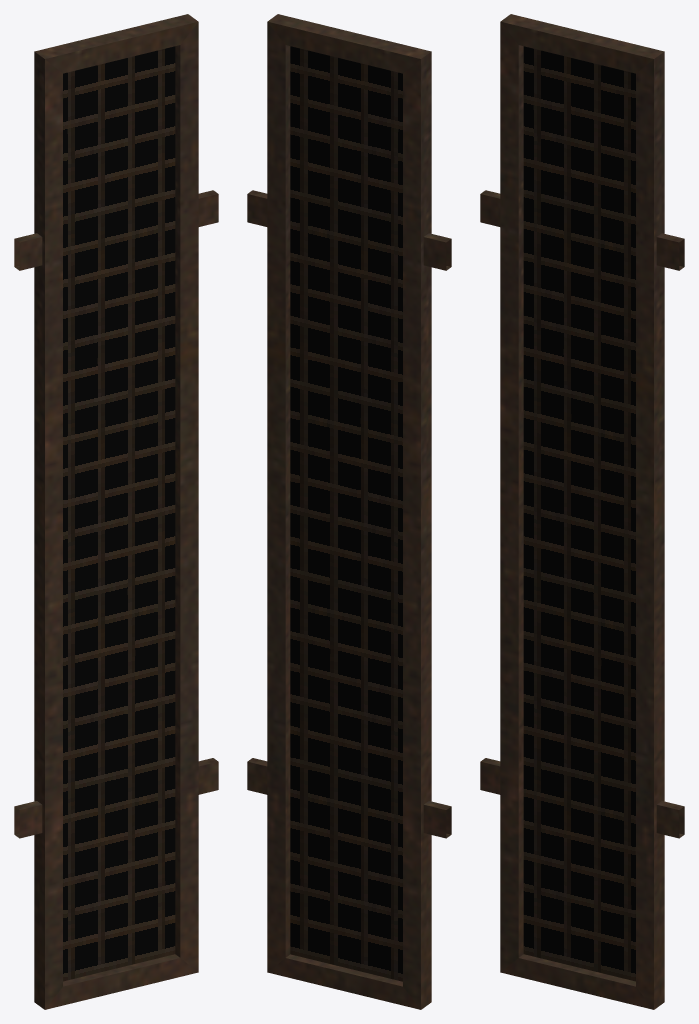
Rendered from fence_e_pillar_1.obj.
3 views of the same model, side by side, from view 1: azimuth 30°, elevation 25°; view 2: azimuth 150°, elevation 25°; view 3: azimuth 330°, elevation 25° (orthographic).
Visible parts, largest first — view 1: fence_e_pillar_1; view 2: fence_e_pillar_1; view 3: fence_e_pillar_1.
Boxes of the visible parts, x1,y1,x2,y2 form: fence_e_pillar_1: (14,14,218,1009); fence_e_pillar_1: (247,14,451,1009); fence_e_pillar_1: (480,14,684,1009).
Bounding box in the file's own units: 0.44 × 2.01 × 0.04.
